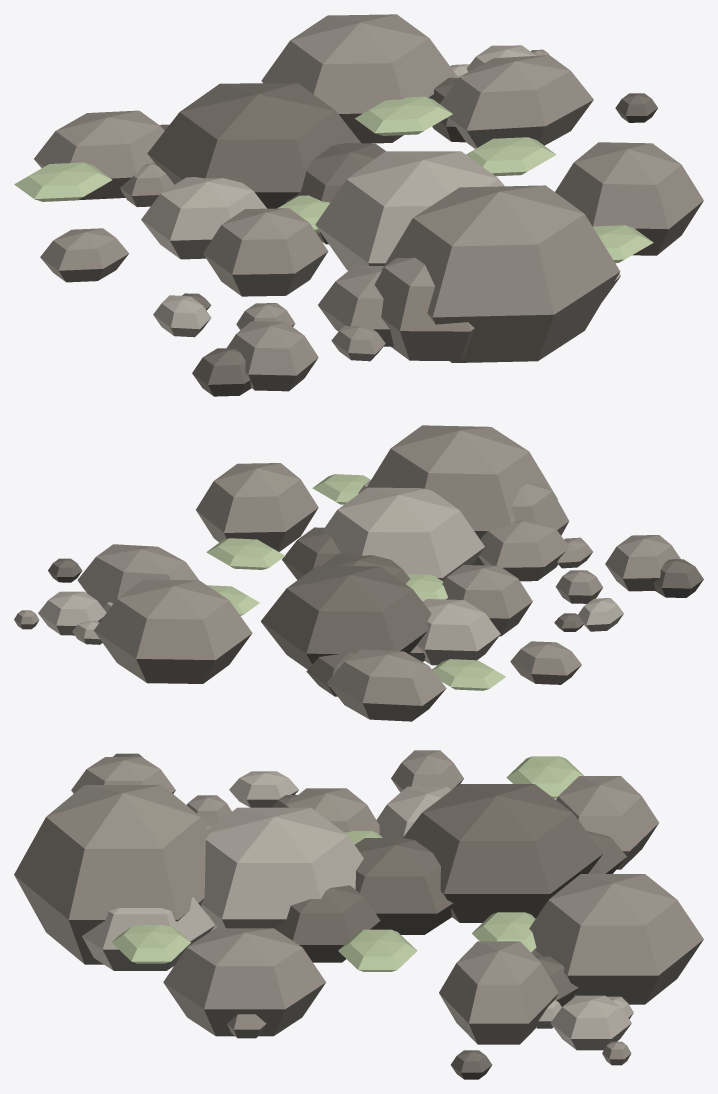
The model's file is cover_scree.glb.
The picture shows the model from 3 angles, top to bottom: view 1: azimuth 30°, elevation 25°; view 2: azimuth 150°, elevation 25°; view 3: azimuth 270°, elevation 25°; orthographic projection. The views are drawn at different scales.
Visible parts, largest first — view 1: biome_mountain_scree; view 2: biome_mountain_scree; view 3: biome_mountain_scree.
Part boxes in pixels (box(x1,y1,x2,y2)): biome_mountain_scree: box(14, 14, 703, 396); biome_mountain_scree: box(14, 425, 703, 721); biome_mountain_scree: box(14, 750, 703, 1079).
Bounding box in the file's own units: 5.39 × 1.36 × 5.19.
